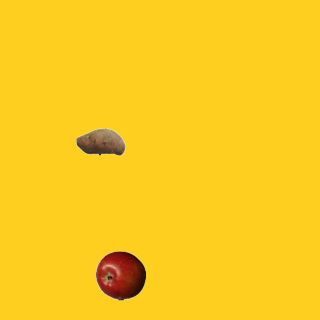Apple Braeburn: (95, 250, 145, 300)
Potato Sweet: (75, 116, 125, 166)
